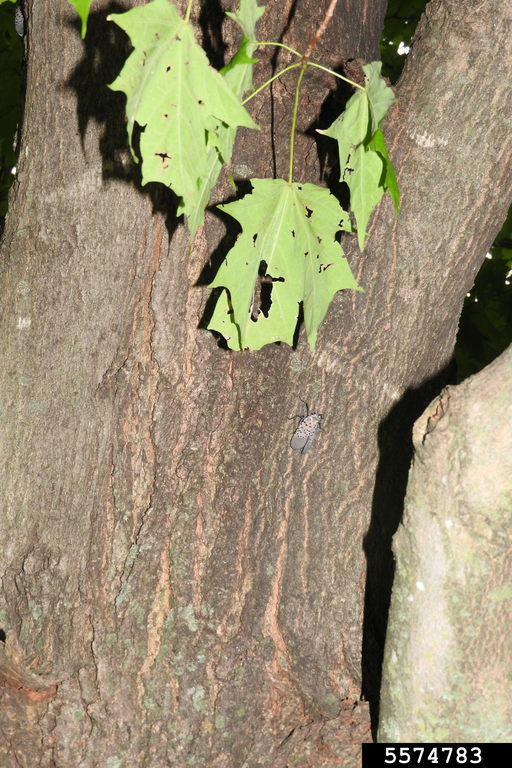adult: (295, 394, 320, 457)
